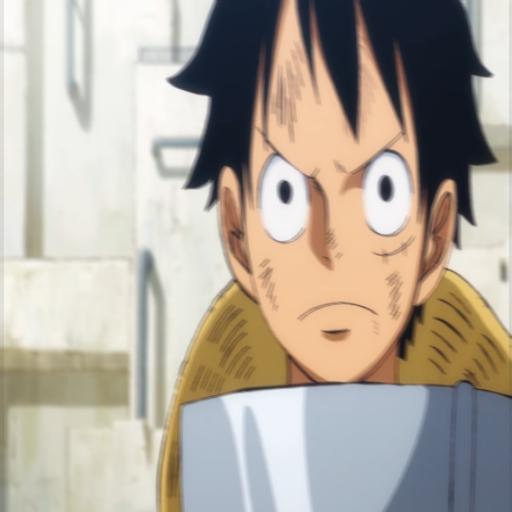Luffy: (159, 0, 512, 395)
